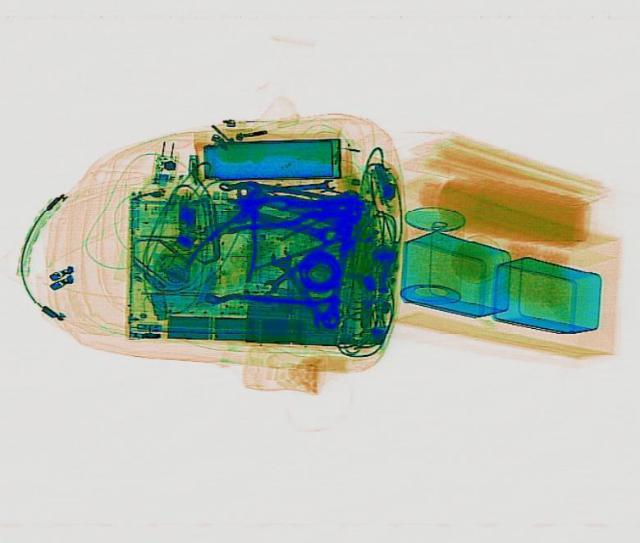Pliers: (181, 182, 281, 283)
Wrench: (263, 245, 335, 332), (257, 233, 339, 292), (240, 176, 338, 198)
